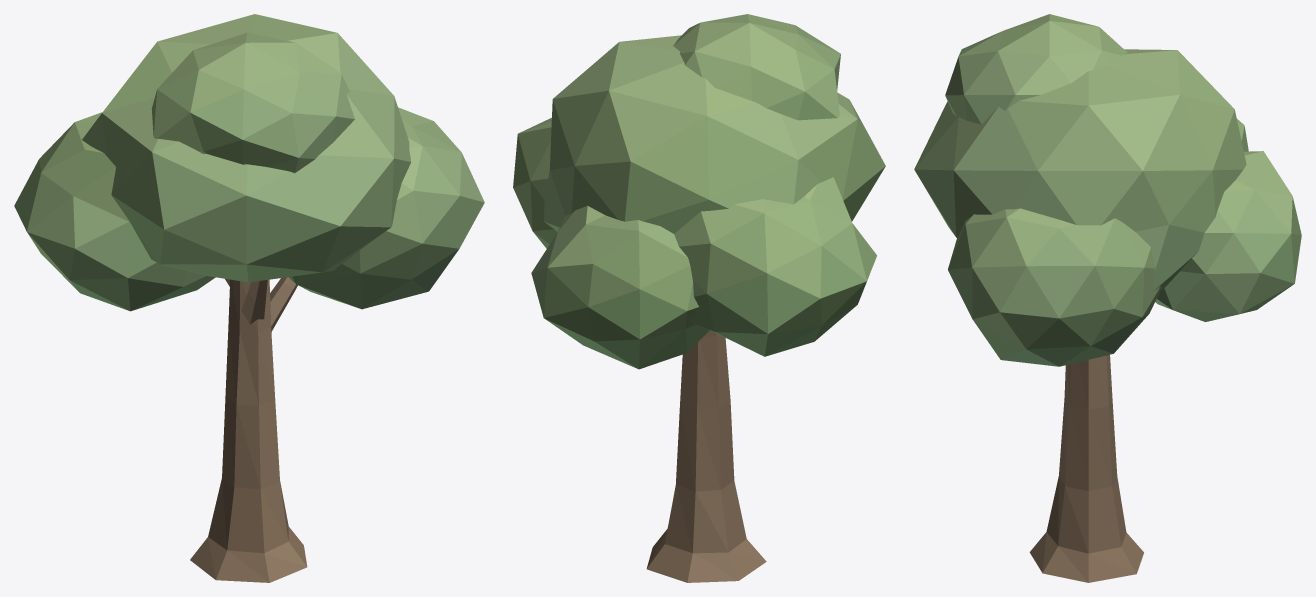
The model's file is pilot_tree_a.glb.
3 views of the same model, side by side, from view 1: azimuth 30°, elevation 25°; view 2: azimuth 150°, elevation 25°; view 3: azimuth 270°, elevation 25° (orthographic). The views are drawn at different scales.
Visible parts, largest first — view 1: pilot_tree_a; view 2: pilot_tree_a; view 3: pilot_tree_a.
Part boxes in pixels (<box>): pilot_tree_a: <box>14,14,484,582</box>; pilot_tree_a: <box>513,14,885,582</box>; pilot_tree_a: <box>914,14,1301,582</box>.
Bounding box in the file's own units: 4.59 × 5.94 × 3.98.
